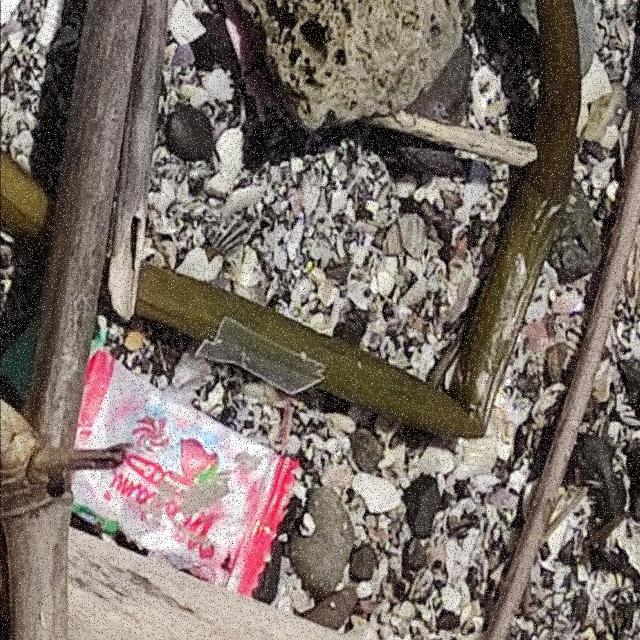plastic_waste: (66, 346, 299, 599)
